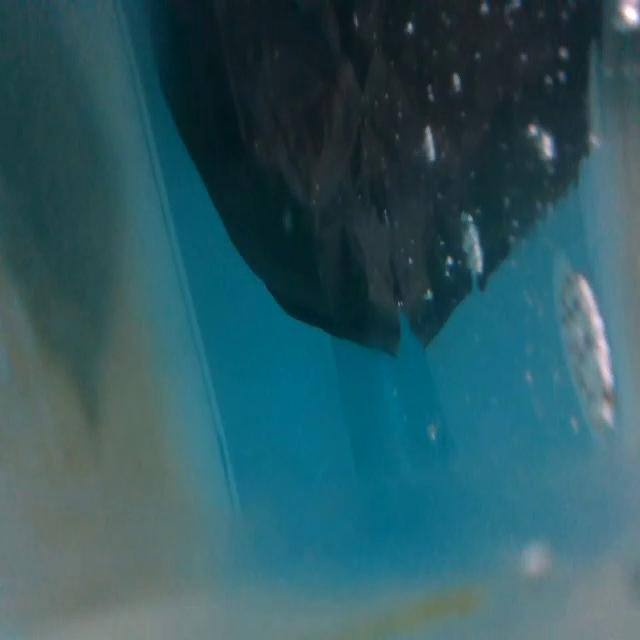plastic bags: (130, 2, 608, 362)
